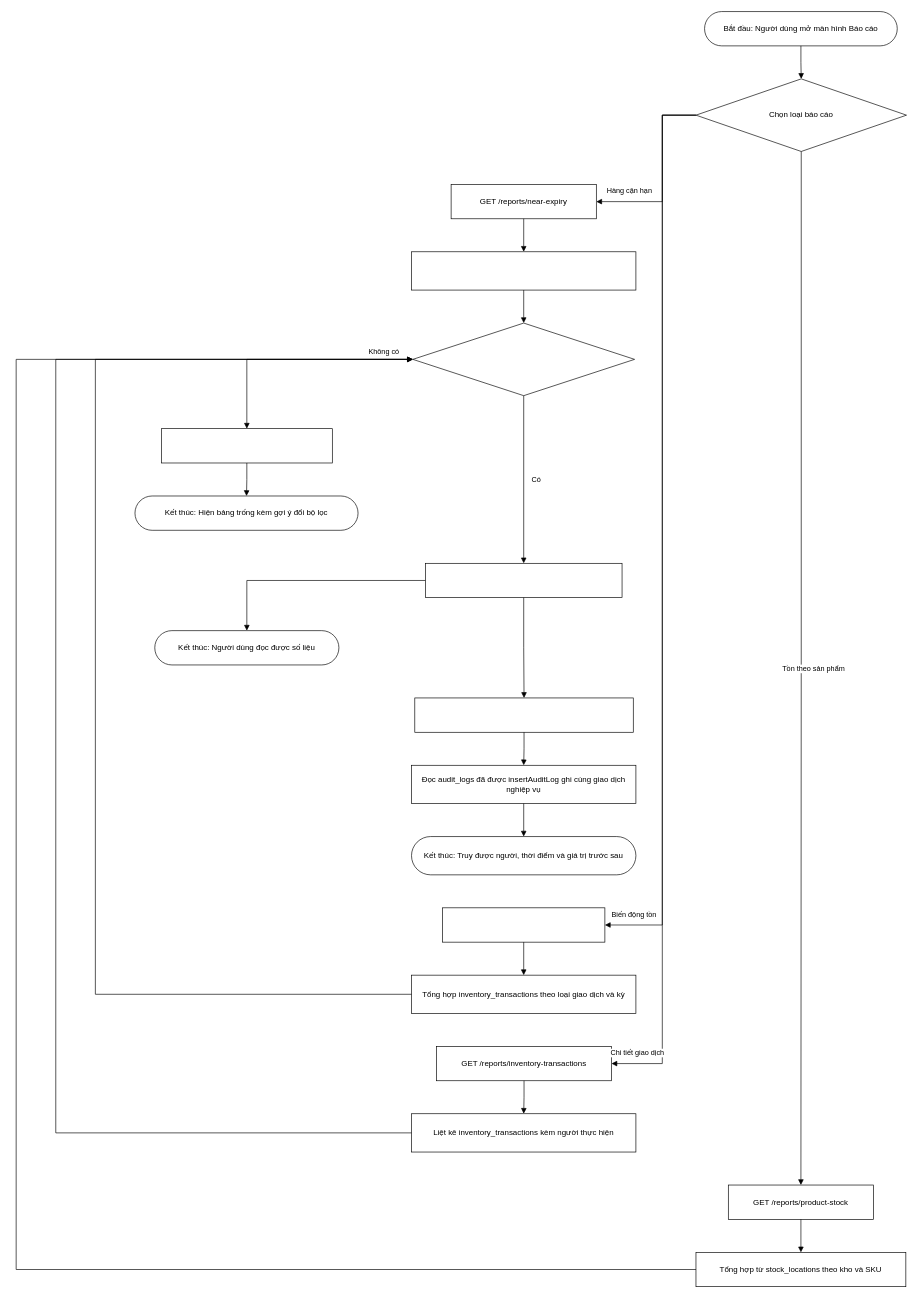
The diagram is 918 pixels wide and 1298 high, and some of its shapes have lost their labels. The centre of each missing label's shape, as x and y in pixels:
"Bộ lọc khớp bản ghi nào không?" belongs at pixel 523 359.
"GET /reports/inventory-movements" belongs at pixel 523 924.
"Hiển thị bảng kết quả, cho phép lọc tiếp" belongs at pixel 523 580.
"Lọc product_batches theo số ngày còn lại tới expiry_date" belongs at pixel 523 270.
"Muốn truy vết ai đã thao tác: GET /audit-logs" belongs at pixel 523 714.
"Trả danh sách rỗng, không phải lỗi" belongs at pixel 246 445.
